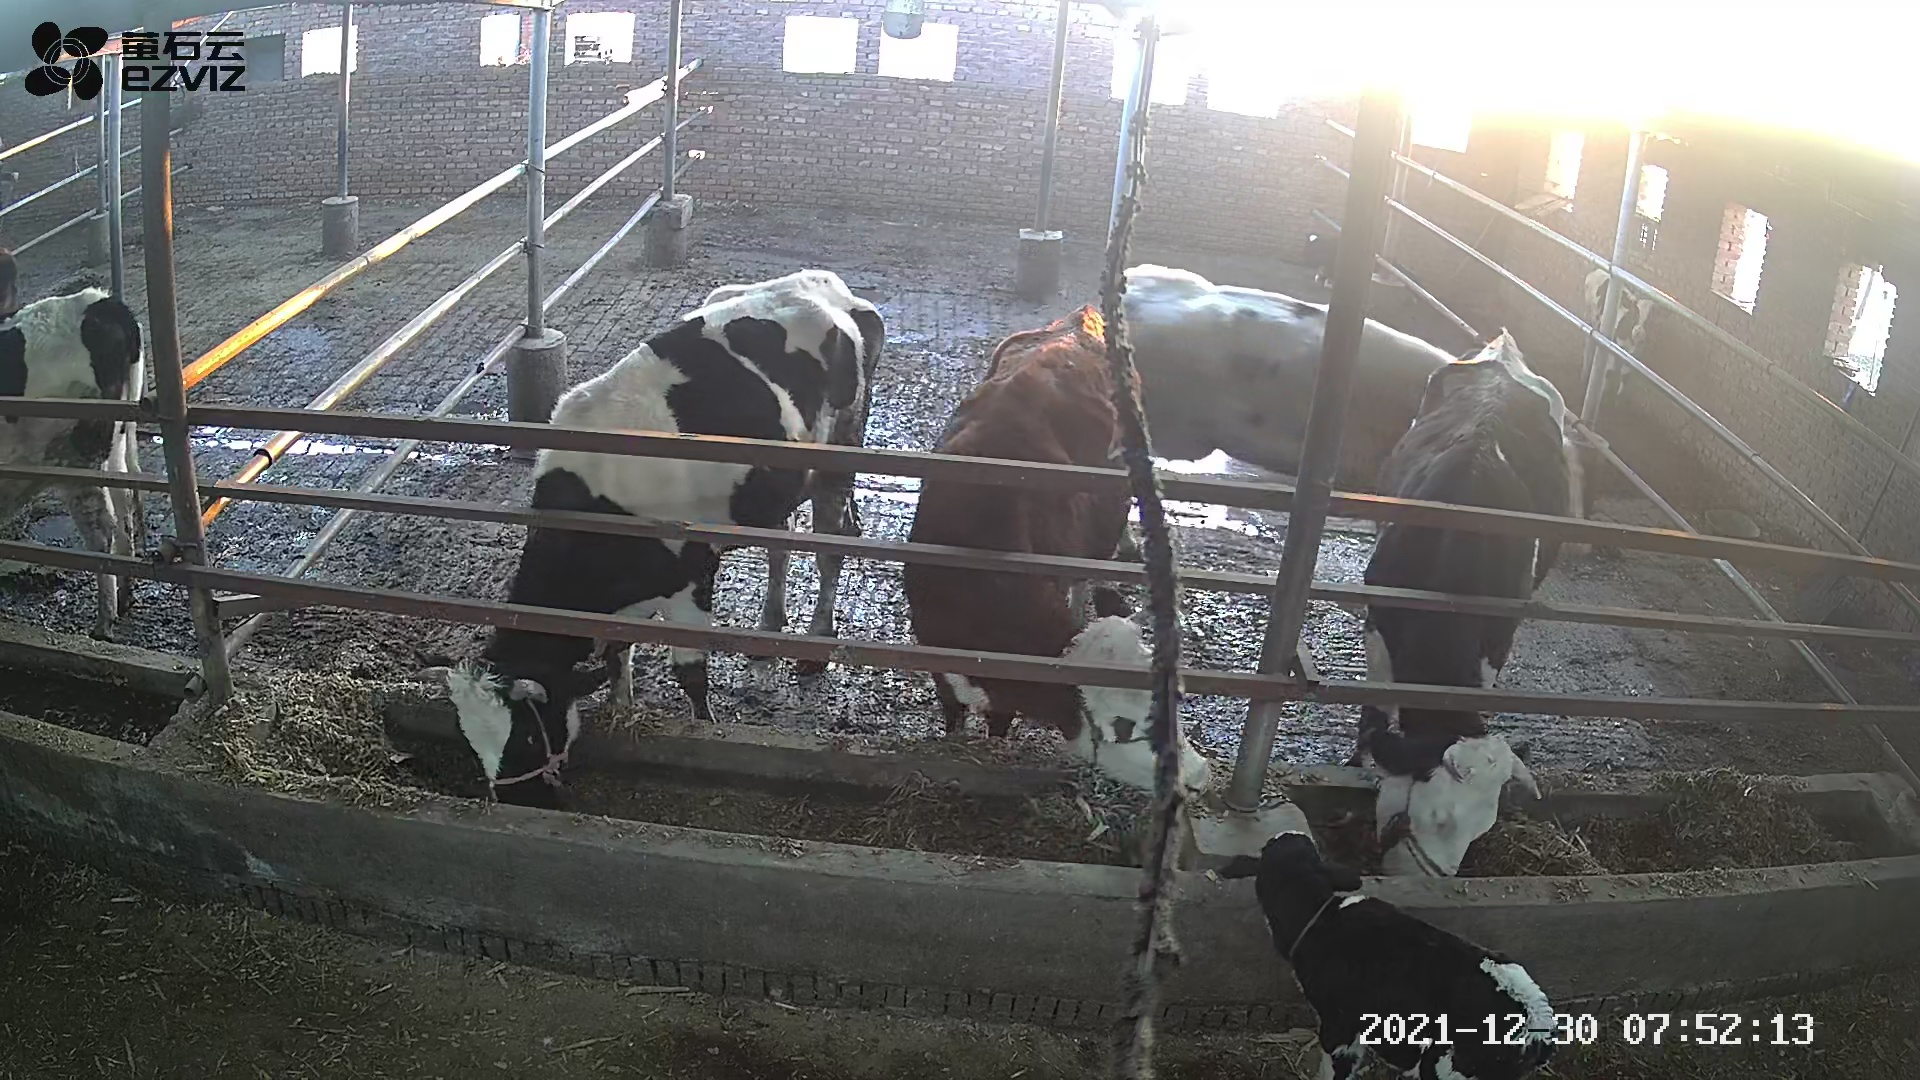cow: (411, 270, 884, 807), (902, 302, 1215, 807), (1120, 260, 1592, 560), (1342, 323, 1567, 877)
